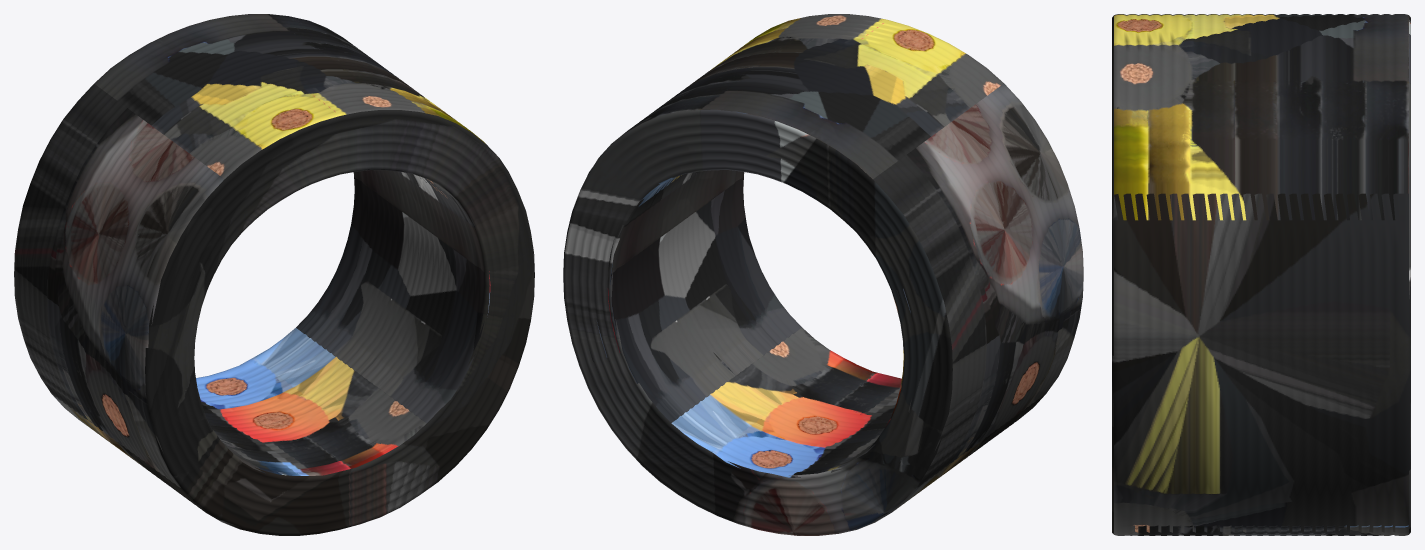
The model's file is Coil.fbx.
3 views of the same model, side by side, from view 1: azimuth 30°, elevation 25°; view 2: azimuth 150°, elevation 25°; view 3: azimuth 270°, elevation 25° (orthographic). The views are drawn at different scales.
Visible parts, largest first — view 1: Mesh_0; view 2: Mesh_0; view 3: Mesh_0.
Part boxes in pixels (<box>): Mesh_0: <box>14,14,534,535</box>; Mesh_0: <box>563,14,1083,535</box>; Mesh_0: <box>1112,14,1410,535</box>.
Bounding box in the file's own units: 190 × 193 × 112.
